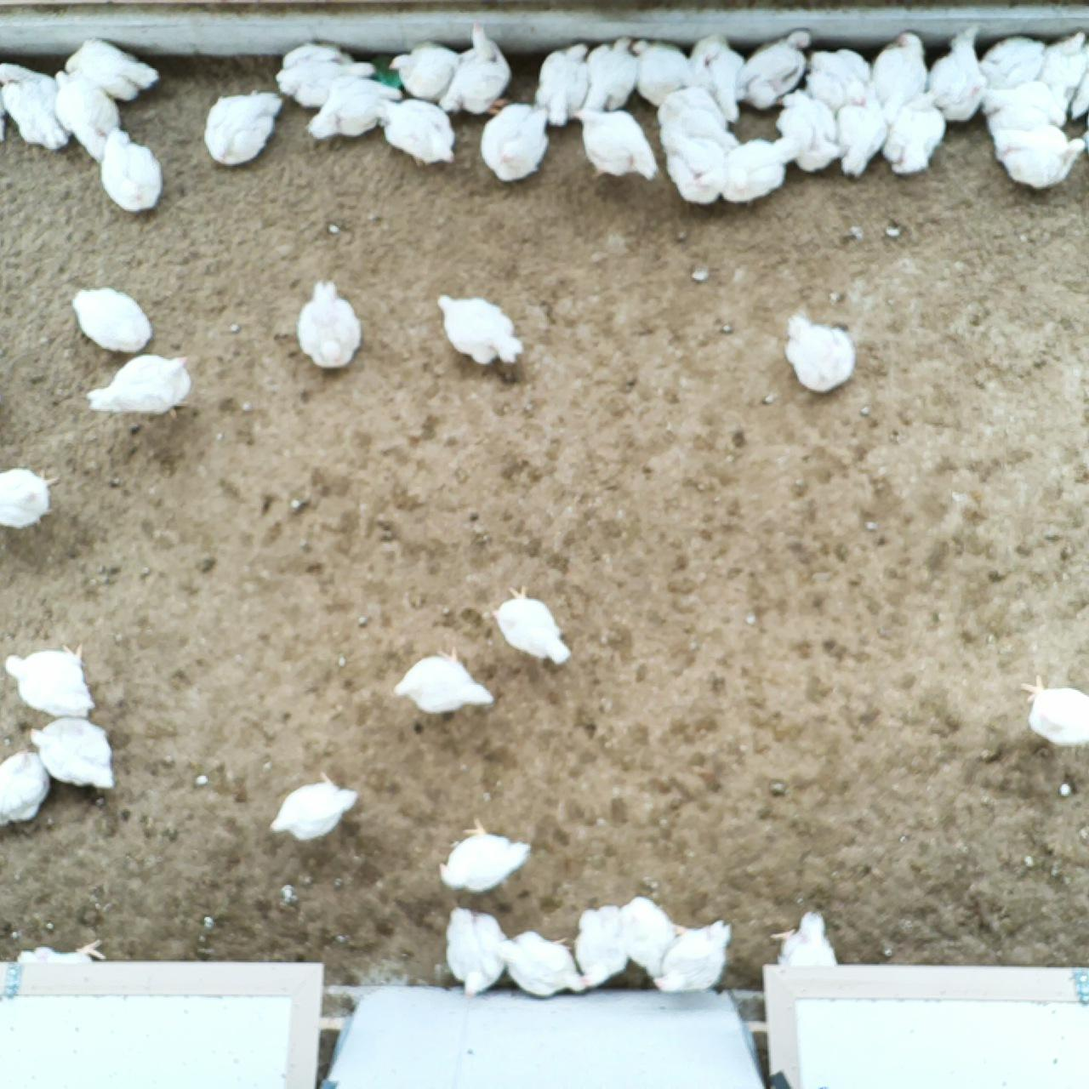chicken: (435, 810, 533, 896), (391, 643, 499, 720), (485, 582, 574, 670), (86, 350, 197, 420), (28, 714, 120, 798), (437, 18, 514, 118), (3, 641, 103, 717), (432, 292, 528, 371), (49, 65, 125, 163), (273, 39, 378, 109), (302, 72, 403, 143), (781, 311, 861, 399), (266, 769, 357, 846), (291, 279, 366, 372), (493, 925, 586, 999), (991, 120, 1085, 193), (68, 282, 157, 359), (0, 62, 75, 151), (572, 108, 661, 183), (1014, 668, 1089, 756), (442, 902, 510, 999), (64, 37, 162, 104), (739, 24, 812, 113), (926, 22, 989, 125), (651, 918, 733, 997), (200, 91, 285, 167), (97, 121, 164, 216), (374, 94, 458, 168), (718, 132, 803, 205), (478, 101, 550, 185), (775, 85, 841, 174), (569, 901, 635, 989), (660, 126, 729, 209), (689, 30, 748, 126), (530, 36, 592, 127), (881, 90, 946, 176), (615, 895, 681, 979), (653, 84, 742, 146), (873, 30, 928, 125), (576, 32, 639, 114), (836, 88, 891, 181), (767, 908, 848, 971), (1040, 24, 1089, 124), (628, 35, 692, 110), (386, 40, 460, 101), (978, 80, 1070, 127), (0, 747, 52, 827), (806, 45, 873, 106), (978, 31, 1044, 92), (0, 465, 61, 530), (14, 935, 105, 967), (1069, 64, 1089, 118)
